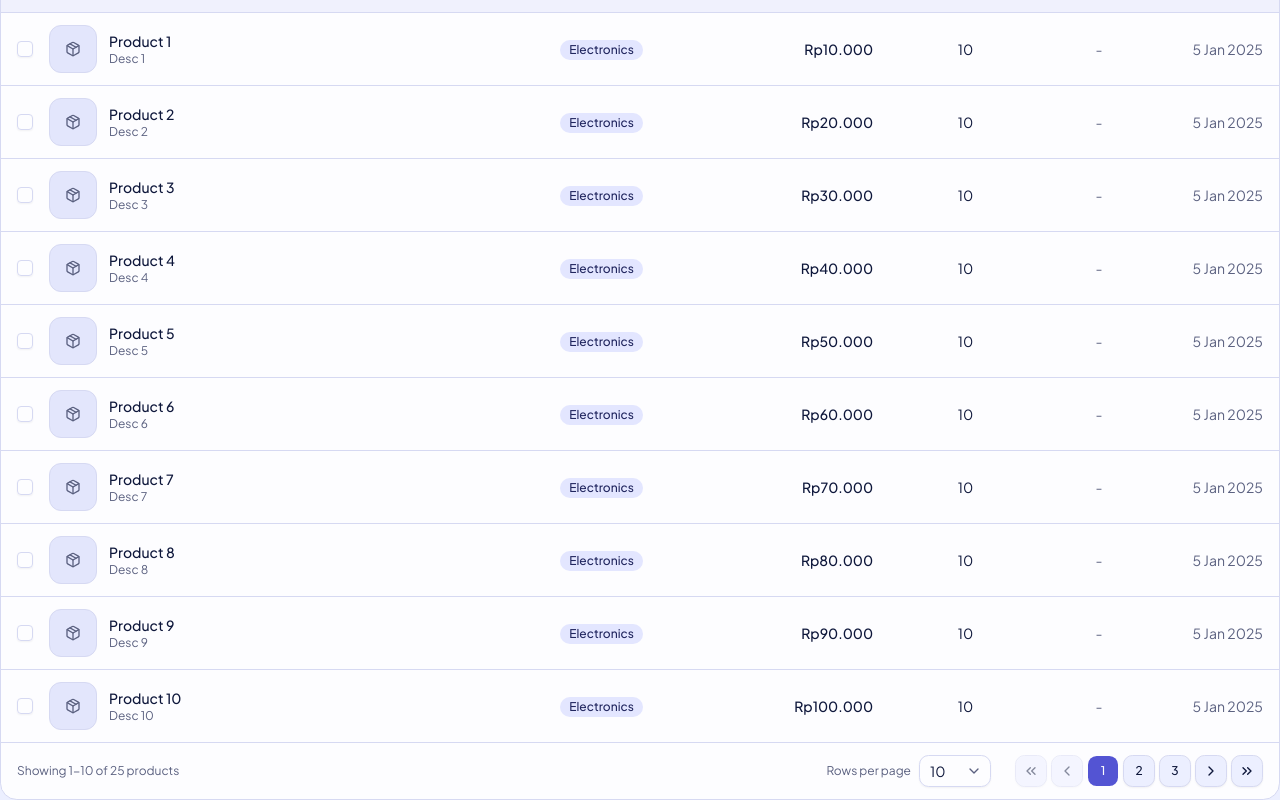
ProductView: pagination › pindah ke halaman berikutnya
(page scrolled)
Click the button named "Next page". click: (1211, 770)
box: [1195,754,1227,786]
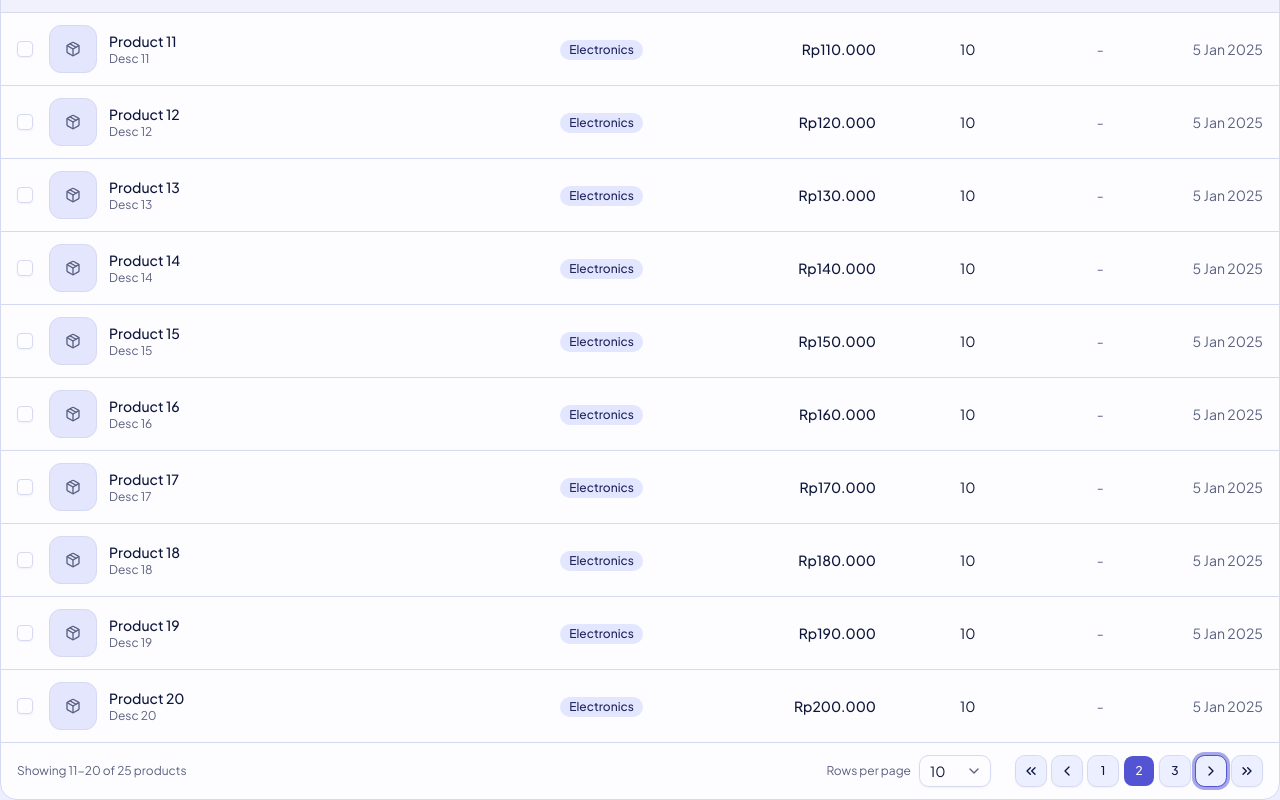
Now the text "Showing 11-20 of 25 products" is shown, box [17,762,186,778]
Now the text "Product 11" is shown, box [109,30,177,50]
